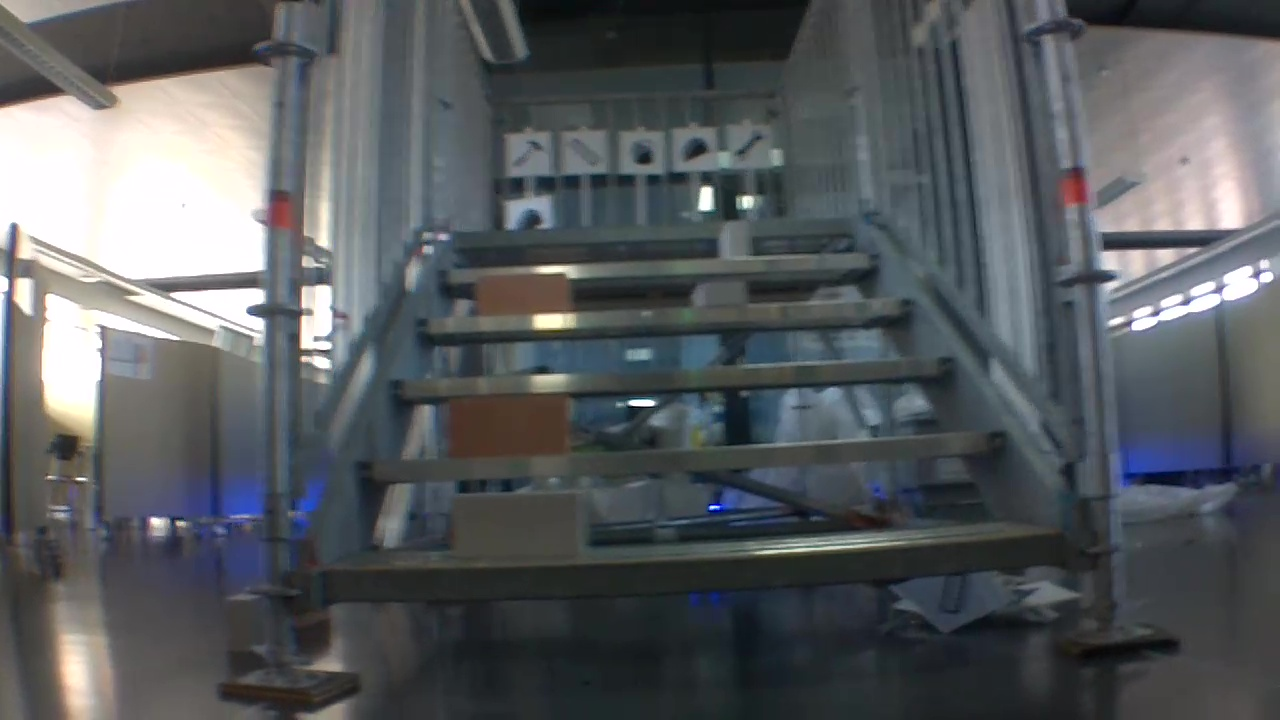brick: (456, 491, 583, 557), (451, 395, 569, 452), (478, 273, 566, 313), (224, 593, 263, 651), (691, 281, 745, 305), (719, 221, 748, 256)
bucket: (623, 134, 659, 170)
edge: (322, 529, 1066, 598), (359, 430, 1009, 481), (391, 356, 956, 398), (416, 297, 912, 333), (437, 255, 880, 283), (453, 218, 851, 244)
hammer: (509, 137, 546, 170)
ruler: (563, 135, 604, 170)
stairs: (216, 2, 1178, 707)
steps: (318, 208, 1072, 610)
taco: (677, 131, 712, 165), (510, 204, 544, 231)
wrench: (729, 124, 769, 164)
